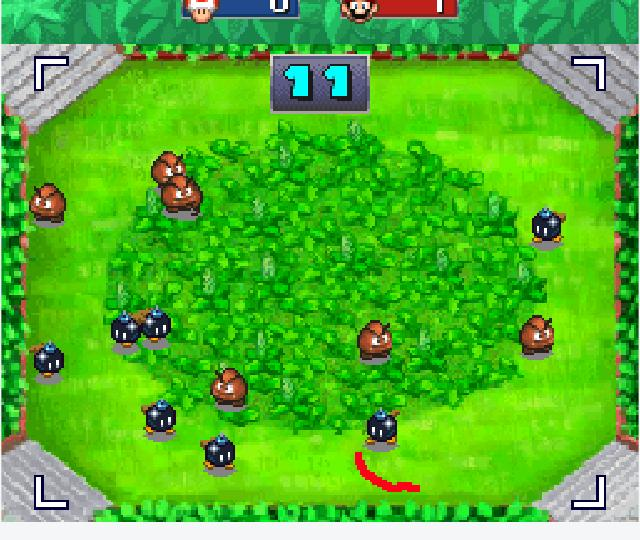bomb: (198, 432, 245, 476), (528, 203, 571, 247), (136, 399, 181, 441), (25, 337, 65, 382), (361, 406, 403, 448), (136, 305, 175, 342), (108, 309, 142, 348)
goomba: (159, 174, 211, 222), (207, 365, 255, 411), (353, 318, 398, 363), (25, 182, 68, 229), (515, 313, 558, 359), (143, 145, 189, 181)
